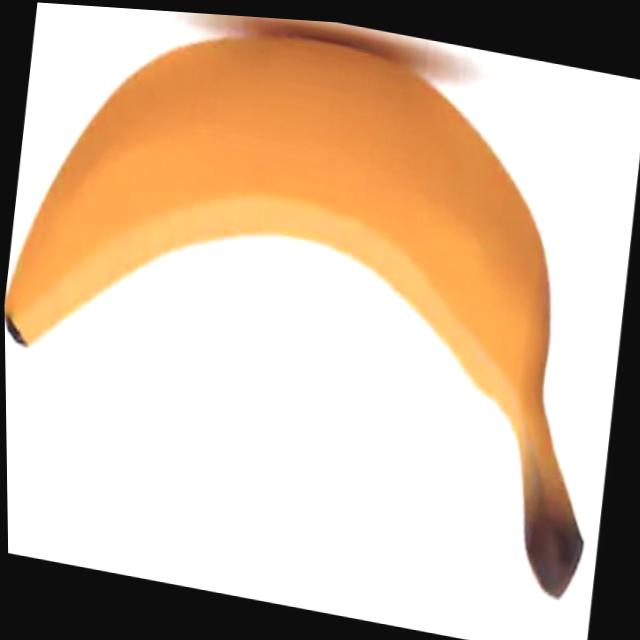Banana: (0, 0, 639, 600)
